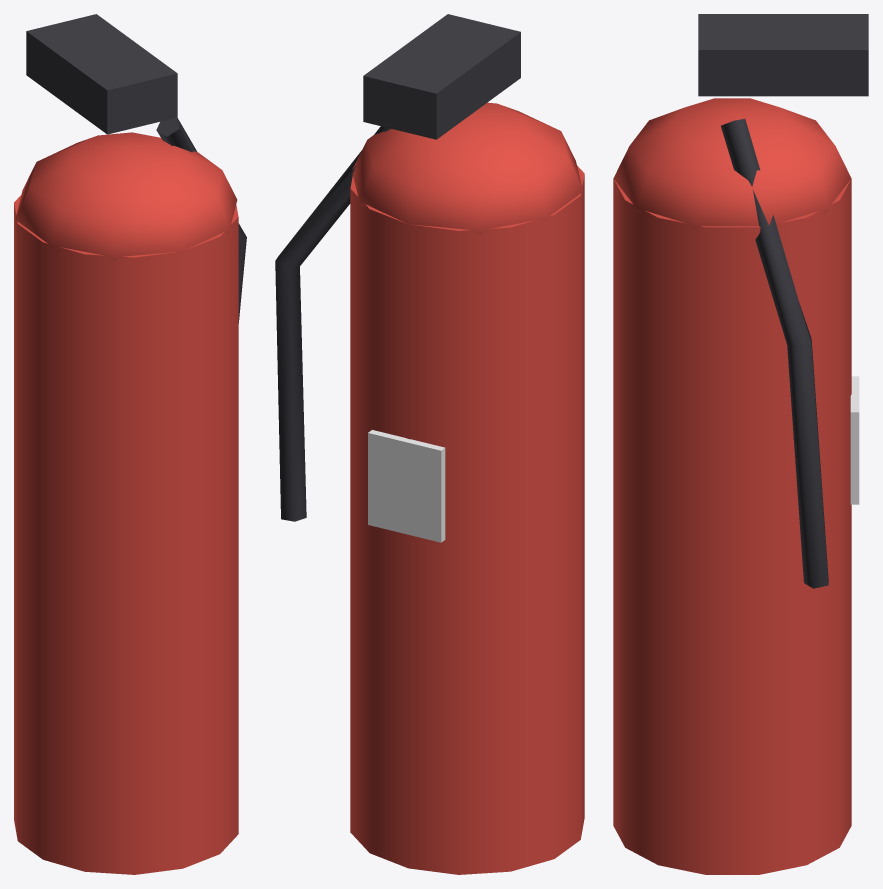
Rendered from fire_extinguisher.glb.
3 renders of one model, left to right at view 1: azimuth 30°, elevation 25°; view 2: azimuth 150°, elevation 25°; view 3: azimuth 270°, elevation 25°, orthographic. The views are drawn at different scales.
Parts seen in each view (by area): view 1: fire_extinguisher; view 2: fire_extinguisher; view 3: fire_extinguisher.
Boxes of the visible parts, x1,y1,x2,y2 form: fire_extinguisher: (14, 14, 246, 874); fire_extinguisher: (275, 14, 584, 874); fire_extinguisher: (613, 14, 868, 874).
Size of the model in its own units: 0.1757 by 0.515 by 0.15.
